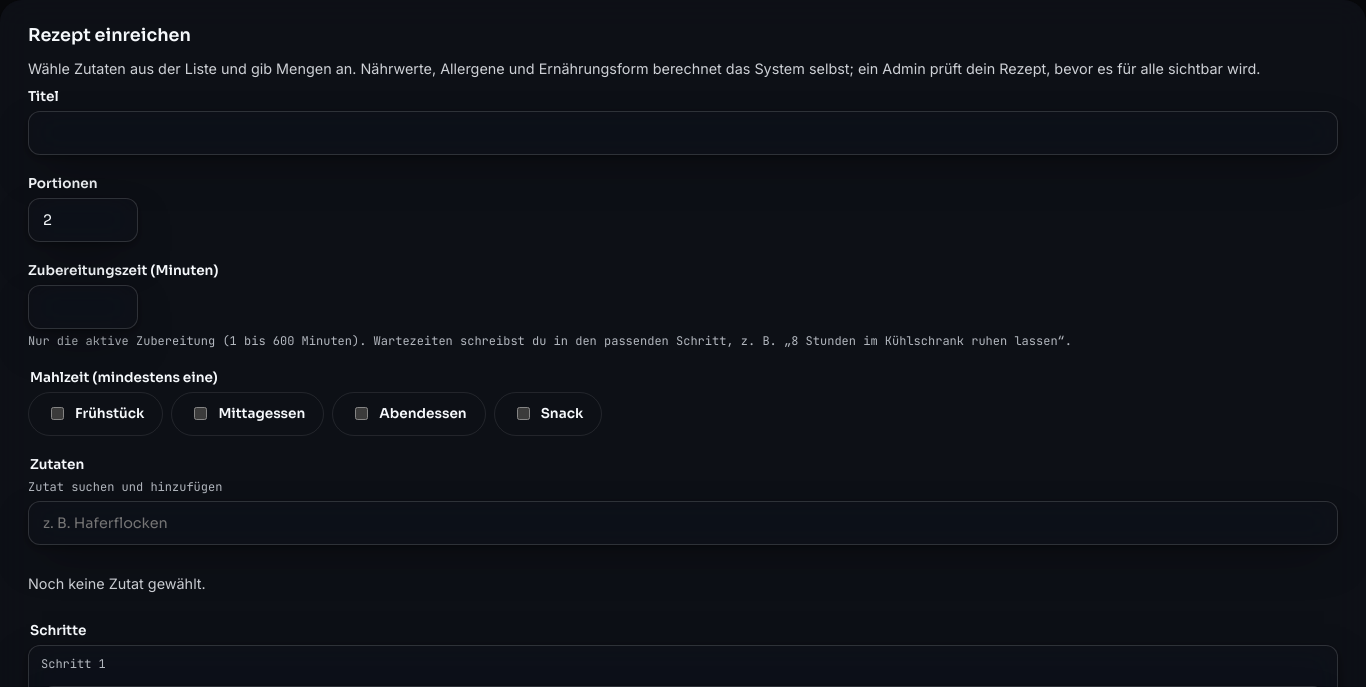
Scenario: RecipeSubmissionForm › wählt eine Zutat per Klick und setzt den Fokus auf die Menge
expect the text "Noch keine Zutat gewählt." is shown: met, box [28,575,206,592]
In the dropdown: (683, 523) [28,501,1338,545], type "hafer"
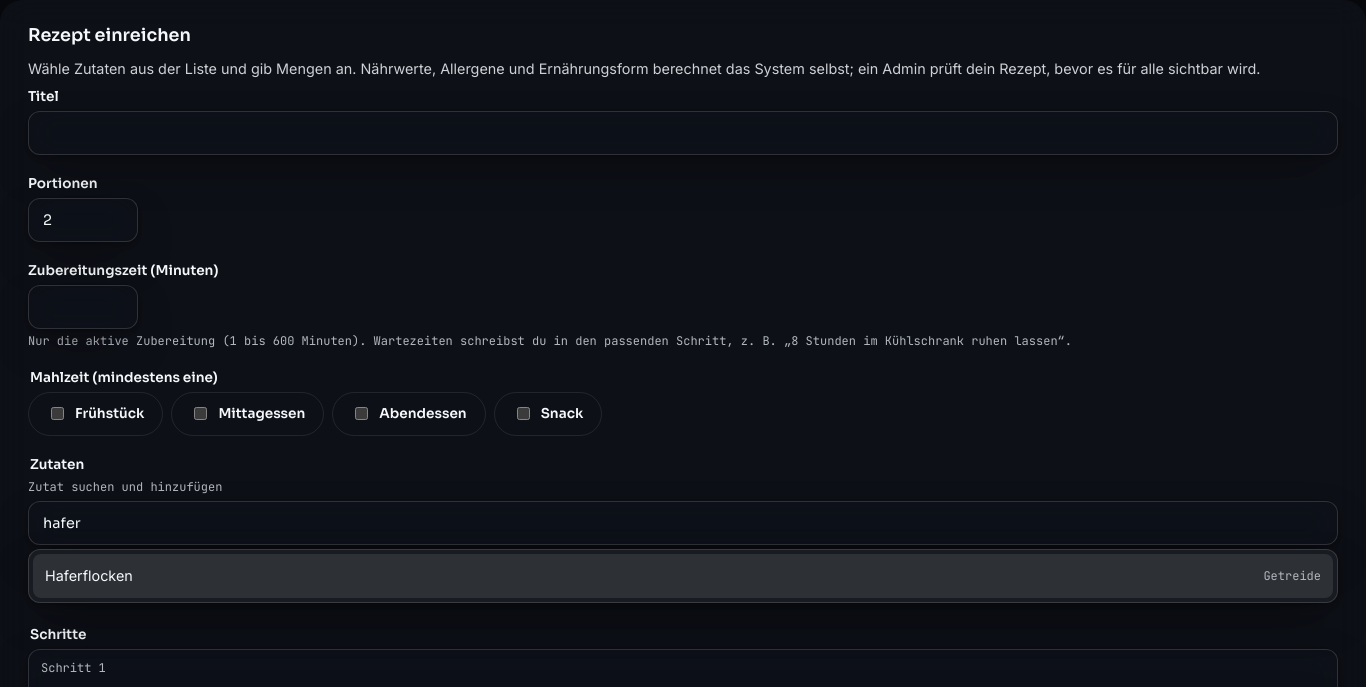
Click the option "Haferflocken Getreide": (89, 576) [33,554,1333,598]
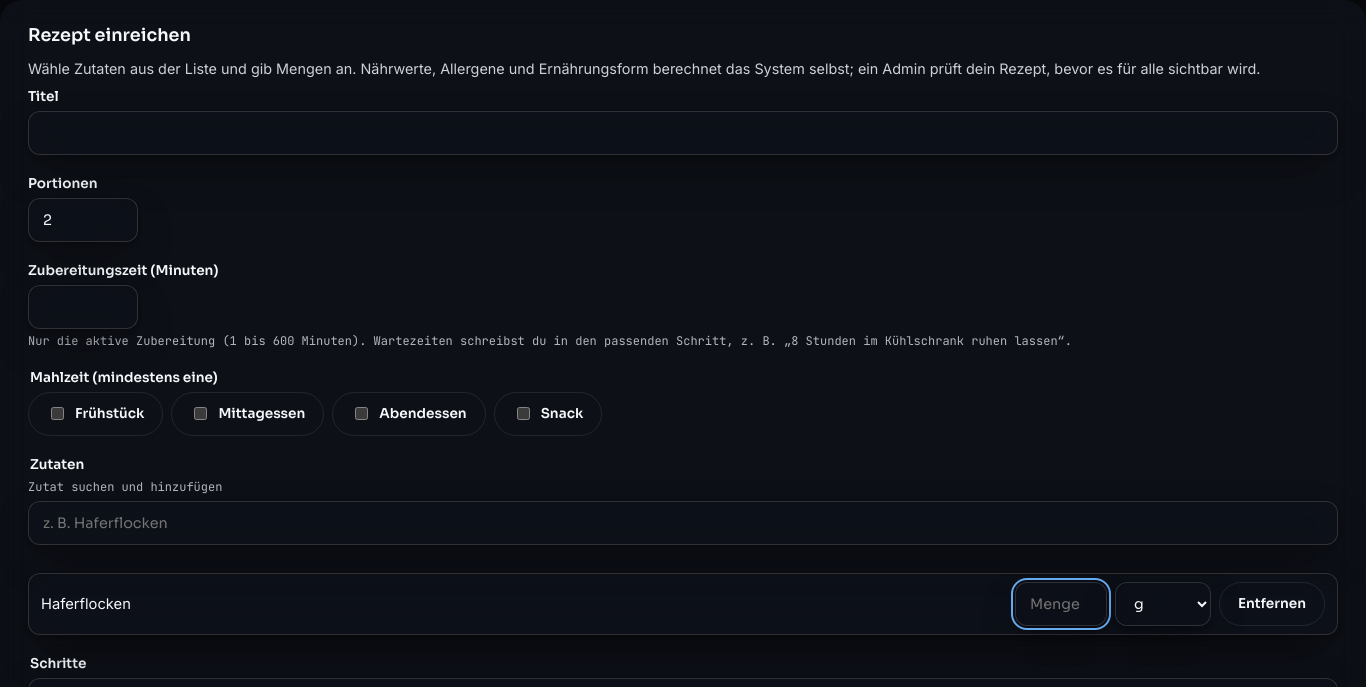
expect the dropdown named "Einheit Haferflocken" shows "g": met, box [1115,582,1211,626]
